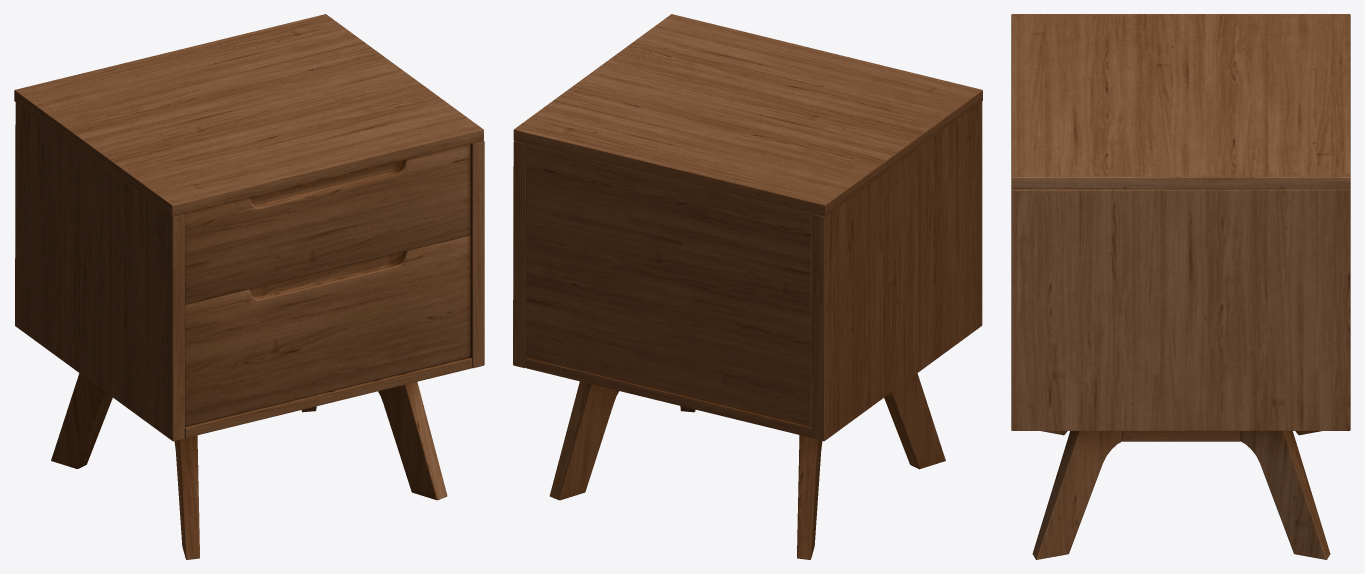
Rendered from bedside.glb.
The picture shows the model from 3 angles, left to right: view 1: azimuth 30°, elevation 25°; view 2: azimuth 150°, elevation 25°; view 3: azimuth 270°, elevation 25°; orthographic projection. The views are drawn at different scales.
Visible parts, largest first — view 1: OAK; view 2: OAK; view 3: OAK.
Boxes of the visible parts, x1,y1,x2,y2 form: OAK: [14, 14, 484, 559]; OAK: [513, 14, 982, 559]; OAK: [1011, 14, 1350, 559].
Size of what is drawn, in the model's own units: 51.39 by 57.98 by 45.
Materials: 2 (2 with a texture image).
